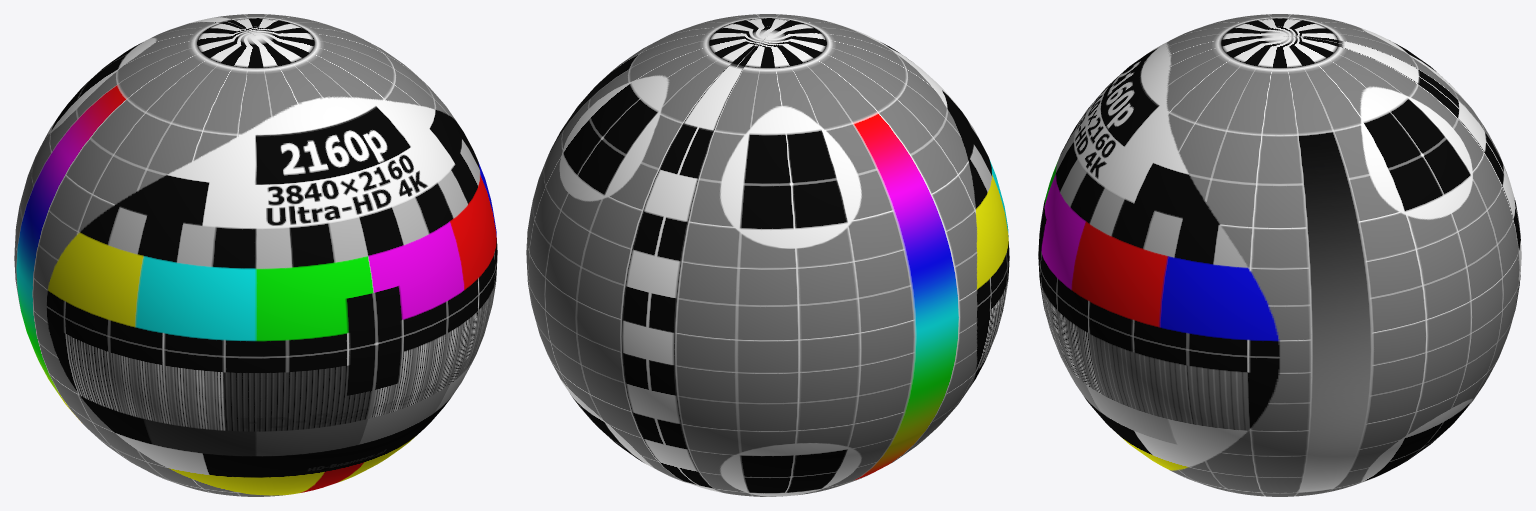
The model's file is VideoSphere01.fbx.
The picture shows the model from 3 angles, left to right: view 1: azimuth 30°, elevation 25°; view 2: azimuth 150°, elevation 25°; view 3: azimuth 270°, elevation 25°; orthographic projection.
Visible parts, largest first — view 1: Sphere001; view 2: Sphere001; view 3: Sphere001.
Boxes of the visible parts, x1,y1,x2,y2 form: Sphere001: (14, 14, 497, 496); Sphere001: (526, 14, 1009, 496); Sphere001: (1038, 14, 1521, 496).
Bounding box in the file's own units: 49.2 × 49.3 × 49.2.
1 material, 1 textured.
